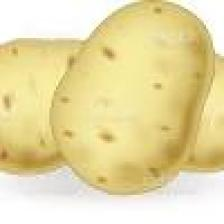Diseased-fungal potato: (45, 0, 217, 204)
